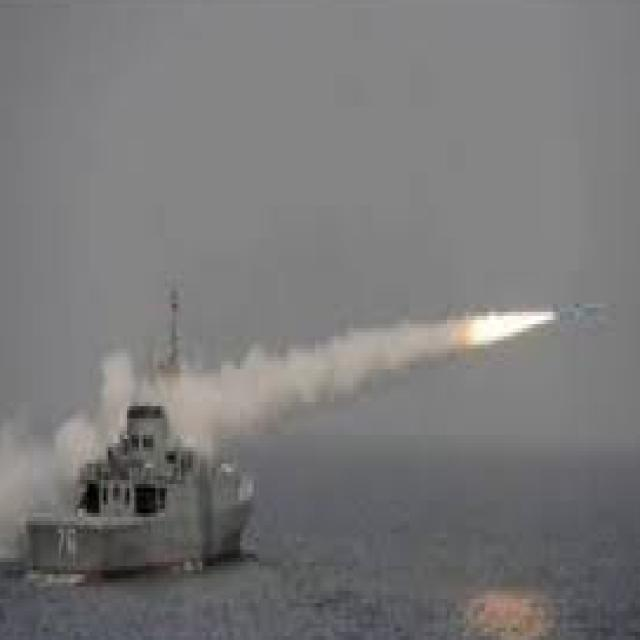navalvessels: (8, 346, 269, 598)
